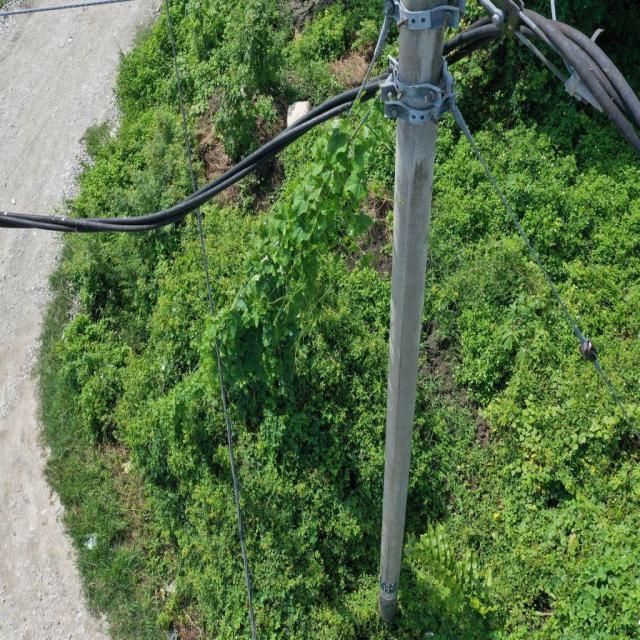light_pole: (144, 74, 387, 453)
